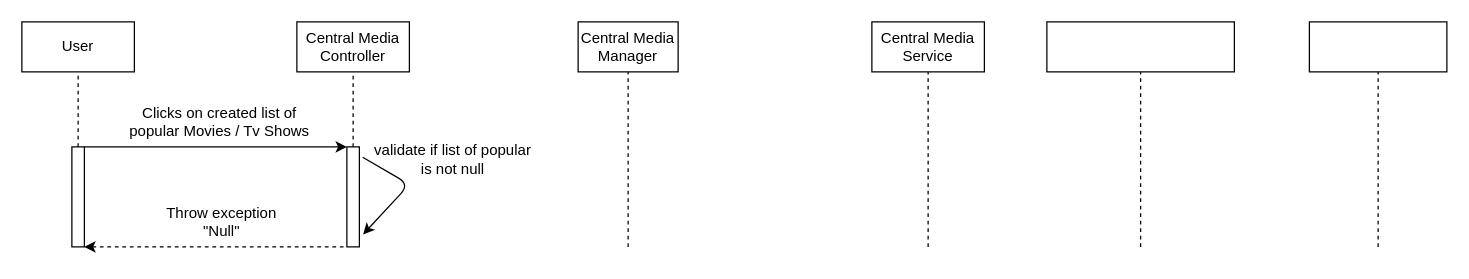
The diagram is 1469 pixels wide and 279 high, and some of its shapes have lost their labels. The shapes that lost their labels are listed below. From the top down, each one's box as (x1, y1, x2, y2) in pixels, then its label:
(1046, 21, 1234, 72): SQL Data Access Object
(1308, 21, 1447, 72): SQL Server
